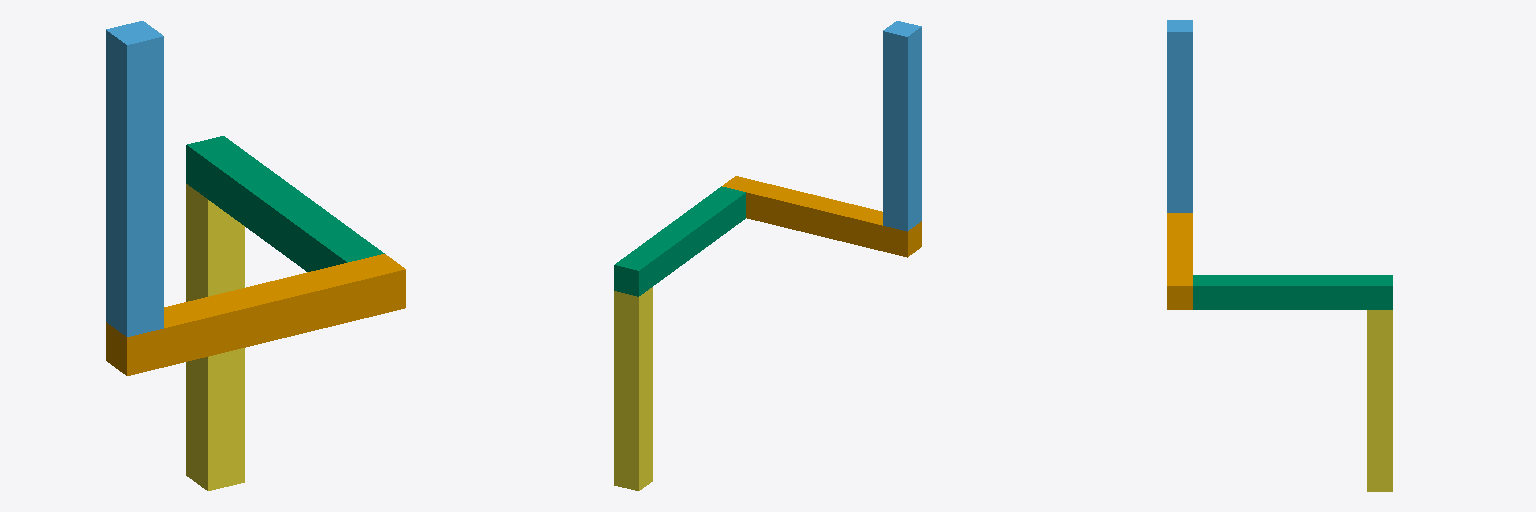
robot.urdf — Lshape/DoubleLshape:
<?xml version="1.0"?>
<robot name="Lshape/DoubleLshape">
 <link name="link1">
  <inertial>
    <mass value="1"/>
    <inertia ixx="0.190833333333" ixy="0" ixz="0" iyy="0.190833333333" iyz="0" izz="0.00666666666667"/>
  </inertial>
  <visual>
    <origin rpy="0 0 0" xyz="0 0 0"/>
    <geometry>
      <box size="1.5 0.2 0.2"/>
    </geometry>
  </visual>
  <collision>
    <origin rpy="0 0 0" xyz="0 0 0"/>
    <geometry>
      <box size="1.5 0.2 0.2"/>
    </geometry>
  </collision>
 </link>

 <link name="link2">
  <inertial>
    <mass value="1"/>
    <inertia ixx="0.190833333333" ixy="0" ixz="0" iyy="0.00666666666667" iyz="0" izz="0.190833333333"/>
  </inertial>
  <visual>
    <origin rpy="0 0 0" xyz="-0.65 0 0.85"/>
    <geometry>
      <box size="0.2 0.2 1.5"/>
    </geometry>
  </visual>
  <collision>
    <origin rpy="0 0 0" xyz="-0.65 0 0.85"/>
    <geometry>
      <box size="0.2 0.2 1.5"/>
    </geometry>
  </collision>
 </link>

<joint name="joint_link1_link2" type="fixed">
  <origin rpy="0 0 0" xyz="0 0 0"/>
  <parent link="link1"/>
  <child link="link2"/>
</joint>

 <link name="link3">
  <inertial>
    <mass value="1"/>
    <inertia ixx="0.00666666666667" ixy="0" ixz="0" iyy="0.190833333333" iyz="0" izz="0.190833333333"/>
  </inertial>
  <visual>
    <origin rpy="0 0 0" xyz="0.65 0.85 0"/>
    <geometry>
      <box size="0.2 1.5 0.2"/>
    </geometry>
  </visual>
  <collision>
    <origin rpy="0 0 0" xyz="0.65 0.85 0"/>
    <geometry>
      <box size="0.2 1.5 0.2"/>
    </geometry>
  </collision>
 </link>

<joint name="joint_link1_link3" type="fixed">
  <origin rpy="0 0 0" xyz="0 0 0"/>
  <parent link="link1"/>
  <child link="link3"/>
</joint>

 <link name="link4">
  <inertial>
    <mass value="1"/>
    <inertia ixx="0.190833333333" ixy="0" ixz="0" iyy="0.00666666666667" iyz="0" izz="0.190833333333"/>
  </inertial>
  <visual>
    <origin rpy="0 0 0" xyz="0.65 1.5 -0.85"/>
    <geometry>
      <box size="0.2 0.2 1.5"/>
    </geometry>
  </visual>
  <collision>
    <origin rpy="0 0 0" xyz="0.65 1.5 -0.85"/>
    <geometry>
      <box size="0.2 0.2 1.5"/>
    </geometry>
  </collision>
 </link>

<joint name="joint_link3_link4" type="fixed">
  <origin rpy="0 0 0" xyz="0 0 0"/>
  <parent link="link3"/>
  <child link="link4"/>
</joint>

  <klampt package_root="../../.." default_acc_max="4" >
  </klampt>
</robot>

--- Render facts (derived) ---
3 views of the same robot in one strip: view 1: azimuth 30°, elevation 25°; view 2: azimuth 150°, elevation 25°; view 3: azimuth 270°, elevation 25° (orthographic).
Model Lshape/DoubleLshape with 4 links and 3 joints (3 fixed), rooted at link1, posed all joints at 0.
Visible links, largest first — view 1: link2, link1, link4, link3; view 2: link2, link4, link1, link3; view 3: link3, link2, link4, link1.
Link boxes in pixels (x1=…): link2: x1=106, y1=21, x2=163, y2=336; link1: x1=106, y1=254, x2=405, y2=375; link4: x1=186, y1=184, x2=244, y2=490; link3: x1=186, y1=136, x2=384, y2=271; link2: x1=883, y1=21, x2=921, y2=231; link4: x1=614, y1=287, x2=652, y2=490; link1: x1=722, y1=176, x2=921, y2=257; link3: x1=614, y1=186, x2=745, y2=296; link3: x1=1193, y1=275, x2=1392, y2=309; link2: x1=1167, y1=20, x2=1192, y2=212; link4: x1=1367, y1=310, x2=1392, y2=491; link1: x1=1167, y1=213, x2=1192, y2=309.
Bounding box of the posed robot: 1.5 × 1.7 × 3.2 m (x, y, z).
Geometry: primitives only (box / cylinder / sphere), no mesh files.